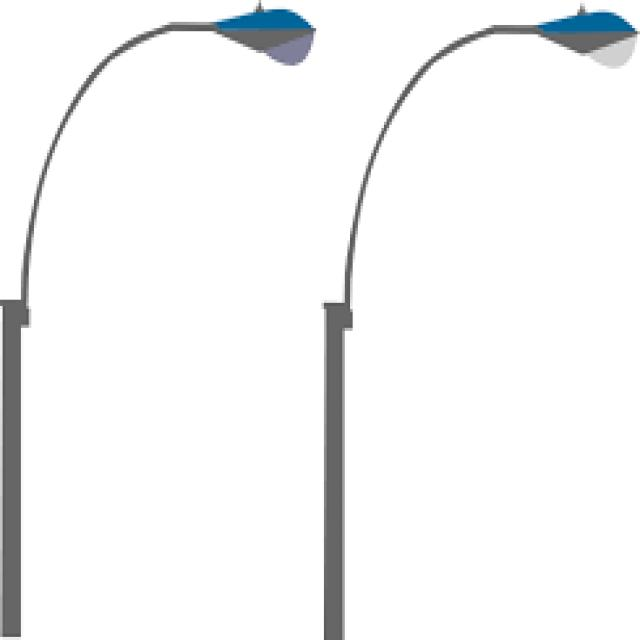Street Light: (321, 3, 640, 637), (3, 6, 316, 640)
